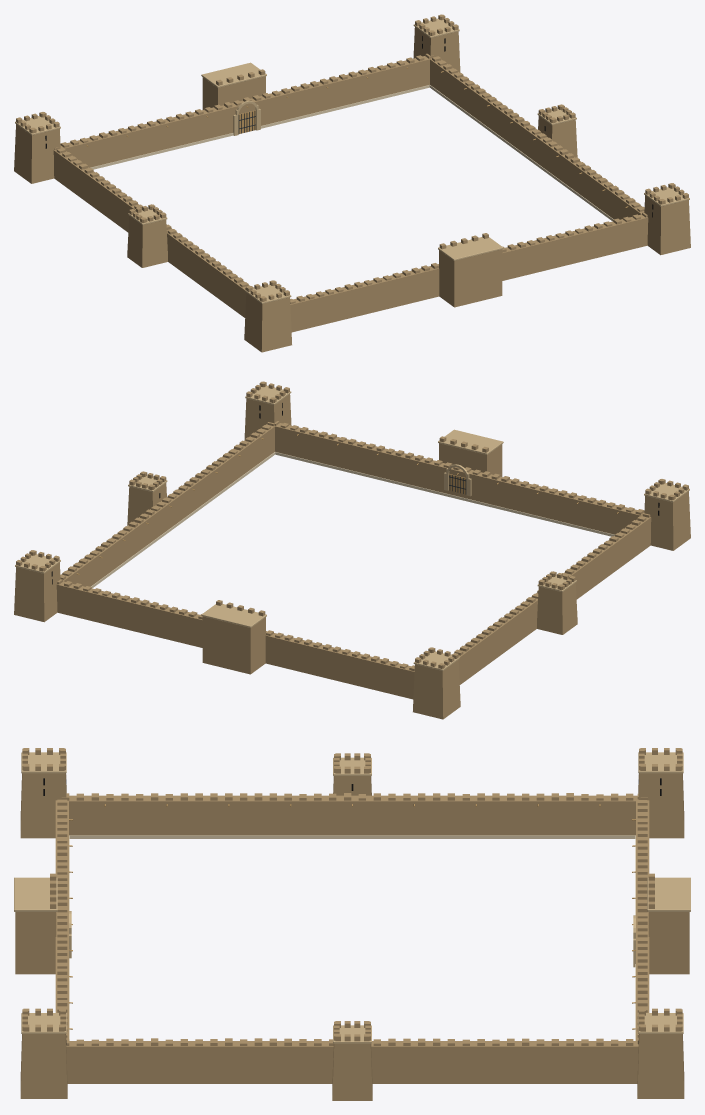
File: db-walls.glb
3 views of the same model, one above another, from view 1: azimuth 30°, elevation 25°; view 2: azimuth 150°, elevation 25°; view 3: azimuth 270°, elevation 25° (orthographic). The views are drawn at different scales.
Visible parts, largest first — view 1: db-walls; view 2: db-walls; view 3: db-walls.
Part boxes in pixels (x1=…): db-walls: x1=14, y1=14, x2=690, y2=352; db-walls: x1=14, y1=381, x2=690, y2=719; db-walls: x1=14, y1=748, x2=690, y2=1100.
Size of the model in its own units: 81.7 by 9.5 by 82.1.
